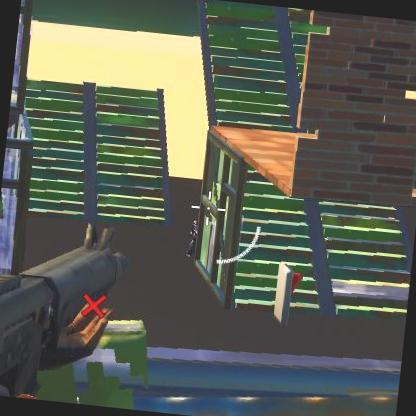person: (188, 217, 200, 255)
